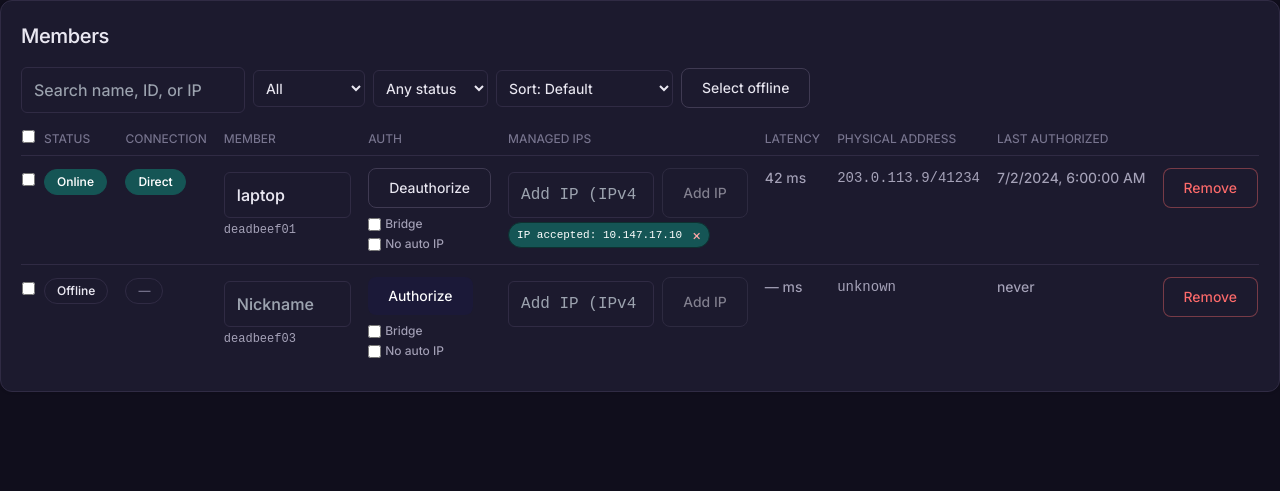
Test: MemberTable › "Select offline" selects only currently-offline members for bulk cleanup
Expected: the text "deadbeef03" is shown, [224, 332, 296, 346]
Click the button "Select offline" at {"x": 746, "y": 88}, box [681, 68, 810, 108]
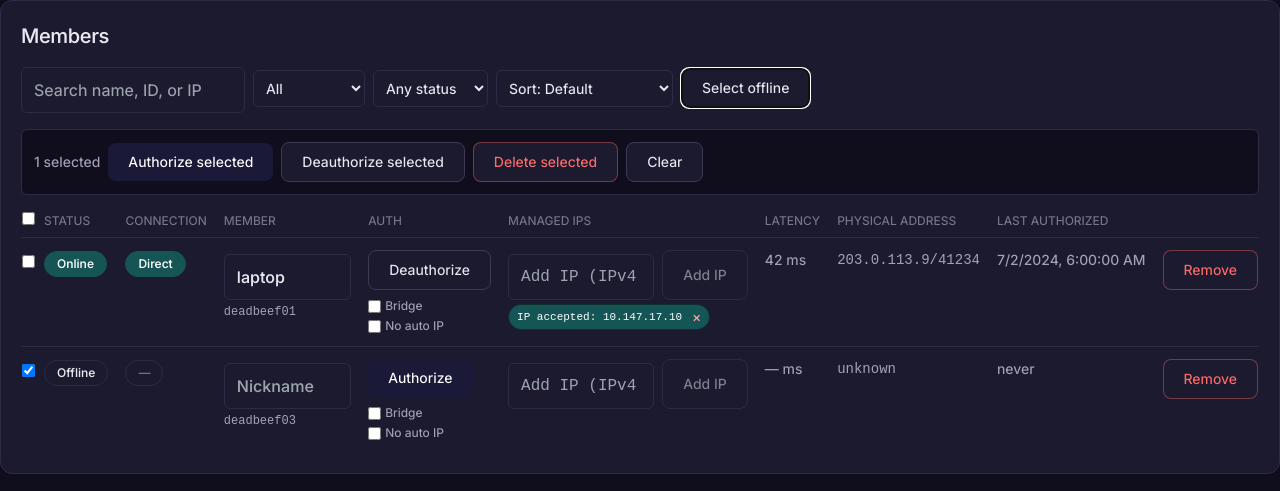
Expected: the checkbox named "Select member deadbeef01" is not checked, [22, 255, 35, 268]
Now the checkbox named "Select member deadbeef03" is checked, box [22, 364, 35, 377]
Now the text "1 selected" is shown, box [34, 152, 100, 172]
